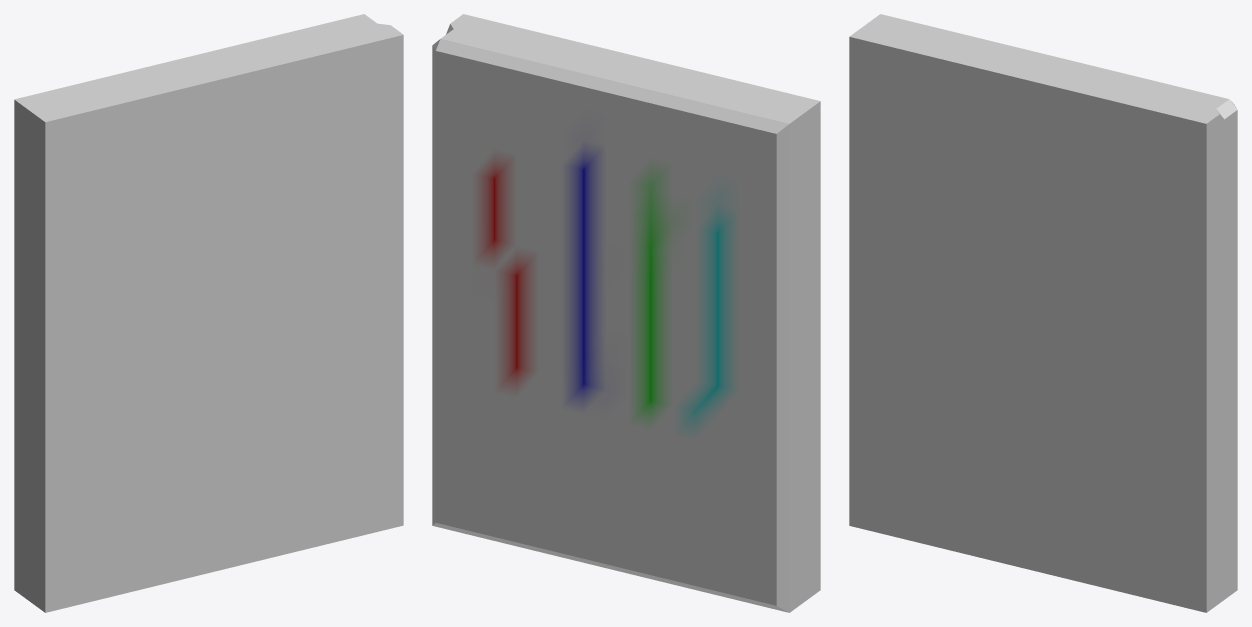
The model's file is ground.fbx.
The picture shows the model from 3 angles, left to right: view 1: azimuth 30°, elevation 25°; view 2: azimuth 150°, elevation 25°; view 3: azimuth 330°, elevation 25°; orthographic projection.
Parts seen in each view (by area): view 1: Ground; view 2: Ground; view 3: Ground.
Part boxes in pixels (x1,y1,x2,y2): Ground: [14, 14, 403, 612]; Ground: [432, 14, 820, 612]; Ground: [849, 14, 1237, 612].
Bounding box in the file's own units: 1151 × 1506 × 200.
